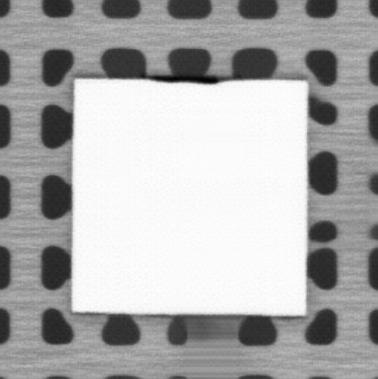DIE_BROKEN: (146, 73, 224, 86)
